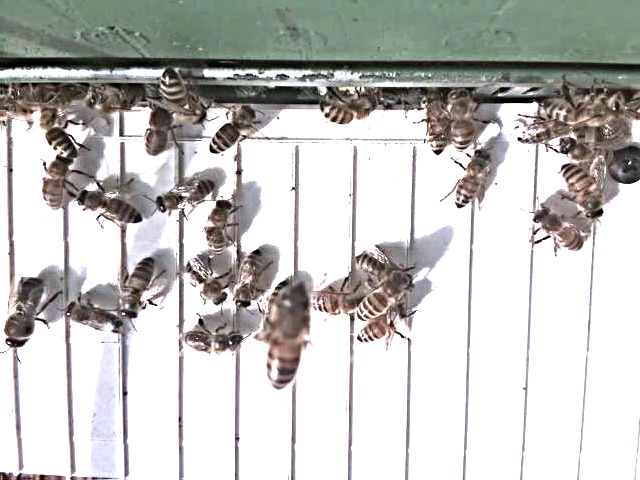Drone: (2, 273, 49, 353)
Worker: (264, 282, 308, 394), (117, 257, 159, 324), (558, 161, 602, 224), (206, 104, 256, 159), (354, 273, 409, 323), (74, 187, 142, 226), (451, 147, 491, 213), (530, 207, 583, 256), (150, 178, 214, 218), (182, 255, 228, 308), (35, 106, 78, 161), (59, 301, 126, 336), (232, 246, 266, 314), (446, 85, 475, 157), (203, 197, 235, 260), (179, 328, 243, 359), (38, 161, 71, 214), (425, 94, 450, 161)
